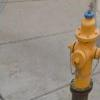Hydrant: (61, 6, 100, 93)
